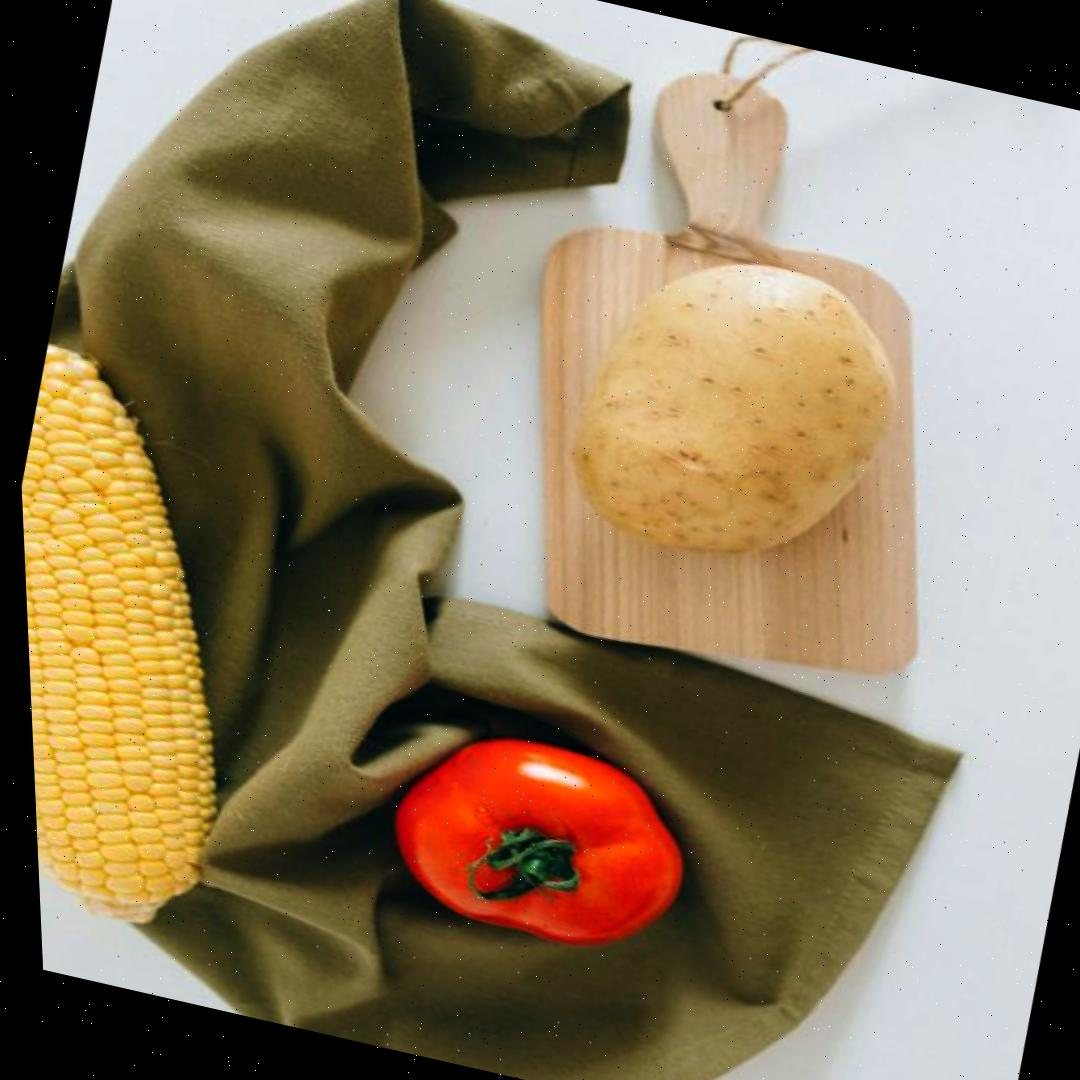matang: (370, 718, 705, 966)
